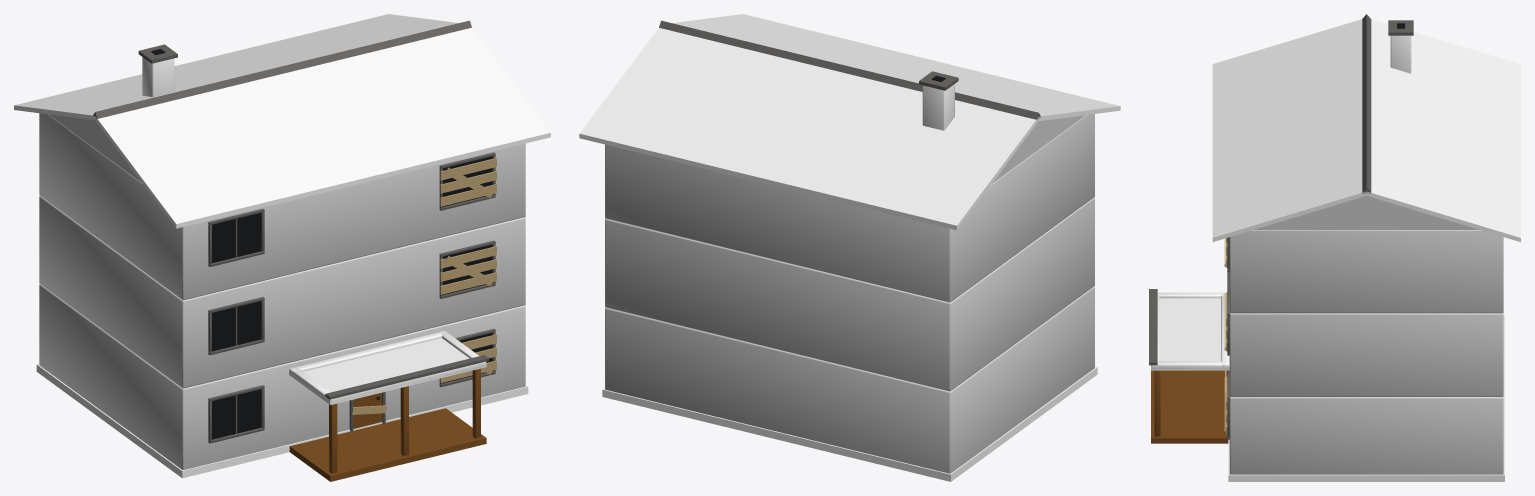
File: bld_ranch_porch_3s.glb
3 renders of one model, left to right at view 1: azimuth 30°, elevation 25°; view 2: azimuth 150°, elevation 25°; view 3: azimuth 270°, elevation 25°, orthographic. The views are drawn at different scales.
Parts seen in each view (by area): view 1: ro_roof_front, ro_walls_s2, ro_walls_s3, ro_walls, ro_roof_back, ro_deck, ro_porch_deck, ro_footing, ro_roof_cap, ro_win0_s2, ro_win0, ro_win0_s3 (+10 smaller); view 2: ro_roof_back, ro_walls_s2, ro_walls, ro_walls_s3, ro_roof_front, ro_footing, ro_roof_cap, ro_roof_gable, ro_chim; view 3: ro_roof_front, ro_roof_back, ro_walls_s2, ro_walls_s3, ro_walls, ro_deck, ro_porch_deck, ro_roof_gable, ro_footing, ro_roof_cap, ro_chim, ro_porch_coping (+4 smaller).
Boxes of the visible parts, <box> form: ro_roof_front: <box>95,27,550,228</box>; ro_walls_s2: <box>39,196,525,388</box>; ro_walls_s3: <box>39,113,525,300</box>; ro_walls: <box>39,284,525,469</box>; ro_roof_back: <box>14,14,458,120</box>; ro_deck: <box>289,408,486,481</box>; ro_porch_deck: <box>289,338,486,404</box>; ro_footing: <box>36,364,528,478</box>; ro_roof_cap: <box>93,20,471,118</box>; ro_win0_s2: <box>212,301,261,351</box>; ro_win0: <box>212,389,261,439</box>; ro_win0_s3: <box>212,213,261,263</box>; ro_roof_back: <box>579,28,1038,230</box>; ro_walls_s2: <box>605,197,1094,391</box>; ro_walls: <box>605,286,1094,473</box>; ro_walls_s3: <box>605,114,1094,302</box>; ro_roof_front: <box>672,14,1120,121</box>; ro_footing: <box>602,366,1097,481</box>; ro_roof_cap: <box>659,20,1040,119</box>; ro_roof_gable: <box>992,115,1085,183</box>; ro_chim: <box>922,84,954,130</box>; ro_roof_front: <box>1212,19,1366,241</box>; ro_roof_back: <box>1366,19,1520,242</box>; ro_walls_s2: <box>1229,312,1503,396</box>; ro_walls_s3: <box>1229,230,1503,313</box>; ro_walls: <box>1229,396,1503,474</box>; ro_deck: <box>1151,370,1228,443</box>; ro_porch_deck: <box>1151,298,1229,370</box>; ro_roof_gable: <box>1254,196,1478,229</box>; ro_footing: <box>1228,314,1504,481</box>; ro_roof_cap: <box>1362,14,1371,193</box>; ro_chim: <box>1390,35,1411,73</box>; ro_porch_coping: <box>1149,289,1157,365</box>.
Size of the model in its own units: 12 by 10.53 by 10.85.
